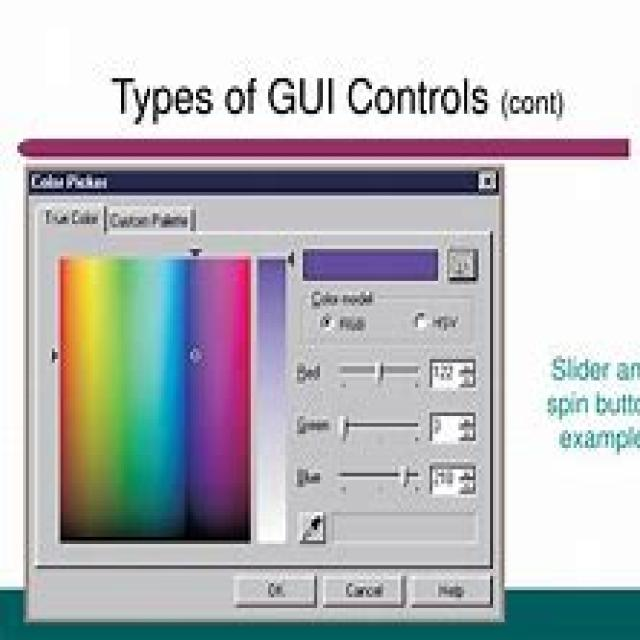button: (230, 572, 318, 609), (408, 574, 496, 608), (322, 574, 407, 609), (445, 246, 480, 284), (296, 509, 327, 545), (478, 168, 502, 195)
label: (107, 67, 569, 128), (25, 170, 112, 194), (308, 286, 376, 310), (294, 410, 331, 438), (294, 465, 324, 494), (295, 359, 323, 386), (431, 310, 459, 332), (338, 314, 368, 334)
radio: (320, 312, 335, 334), (414, 310, 428, 332)
slider: (335, 361, 423, 394), (335, 414, 424, 446), (336, 464, 423, 496)
tabControl: (31, 201, 211, 239)
upDown: (428, 356, 477, 394), (429, 462, 478, 499), (428, 410, 478, 444)
